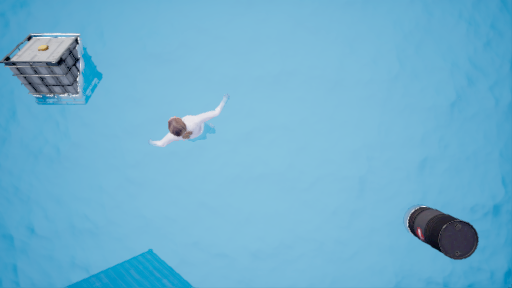person: (144, 96, 238, 156)
